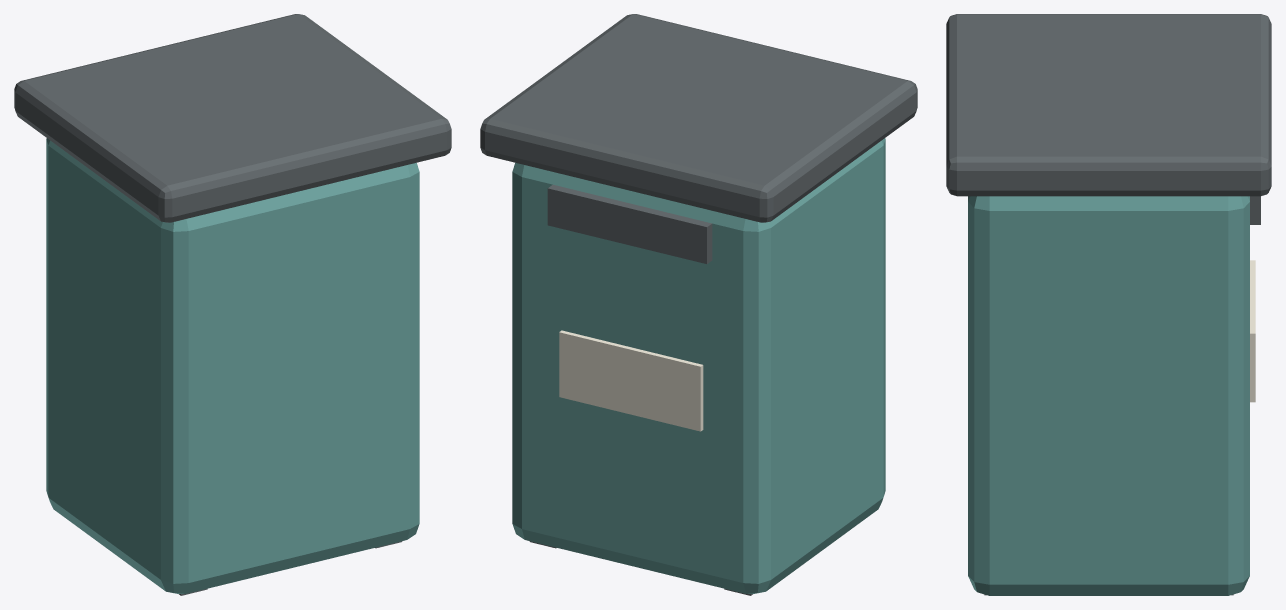
The model's file is bin.glb.
The picture shows the model from 3 angles, left to right: view 1: azimuth 30°, elevation 25°; view 2: azimuth 150°, elevation 25°; view 3: azimuth 270°, elevation 25°; orthographic projection. The views are drawn at different scales.
Visible parts, largest first — view 1: bin; view 2: bin; view 3: bin.
Part boxes in pixels (x1,y1,x2,y2): bin: (14, 14, 451, 595); bin: (480, 14, 917, 595); bin: (946, 14, 1271, 595).
Size of the model in its own units: 0.66 by 0.92 by 0.6.
